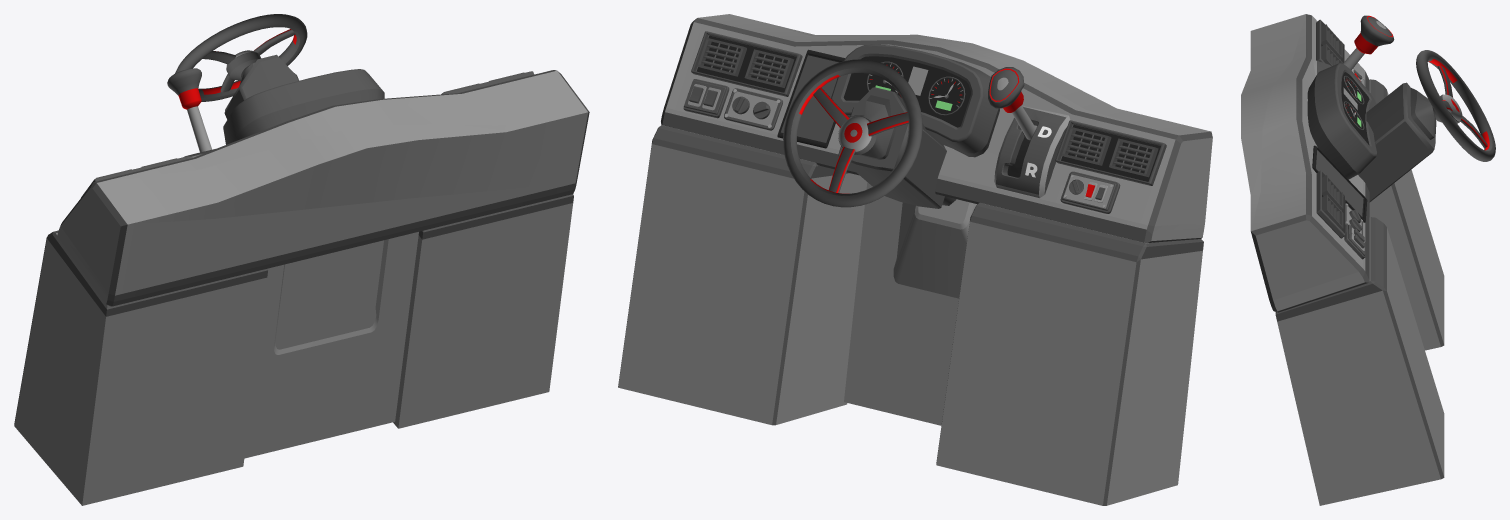
The model's file is Truck_Dashboard.fbx.
3 views of the same model, side by side, from view 1: azimuth 30°, elevation 25°; view 2: azimuth 150°, elevation 25°; view 3: azimuth 270°, elevation 25° (orthographic). The views are drawn at different scales.
Parts seen in each view (by area): view 1: Plane, Rubble_1, Lever; view 2: Plane, Rubble_1, pCube24 (×2), pPlane1, Screen, Lever; view 3: Plane, Rubble_1, Screen, Lever, pPlane1, pCube24 (×2).
Boxes of the visible parts, x1,y1,x2,y2 form: Plane: [14, 54, 589, 505]; Rubble_1: [175, 14, 307, 101]; Lever: [167, 68, 211, 152]; Plane: [618, 14, 1212, 505]; Rubble_1: [783, 59, 922, 207]; pCube24 (×2): [691, 31, 1166, 185]; pPlane1: [843, 56, 970, 127]; Screen: [777, 49, 844, 148]; Lever: [988, 67, 1036, 140]; Plane: [1241, 14, 1444, 505]; Rubble_1: [1416, 50, 1495, 161]; Screen: [1312, 145, 1367, 222]; Lever: [1343, 15, 1394, 70]; pPlane1: [1341, 72, 1369, 145]; pCube24 (×2): [1316, 19, 1345, 238].
Bounding box in the file's own units: 408 × 322 × 214.
